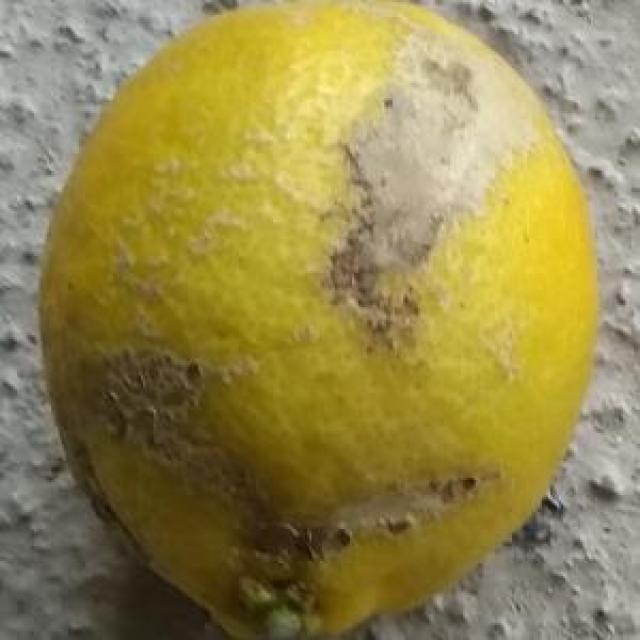lemon: (36, 4, 606, 640)
